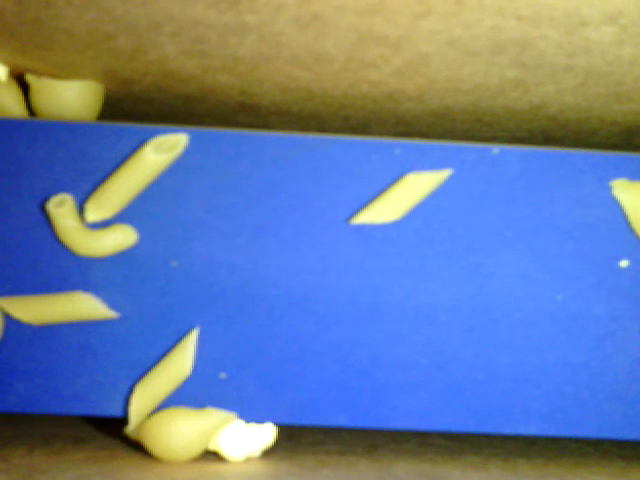elbow: (41, 191, 140, 260)
penne: (83, 133, 187, 226), (128, 326, 198, 434), (347, 168, 452, 226), (2, 290, 122, 326)
shell: (128, 405, 236, 465), (26, 72, 106, 123)
